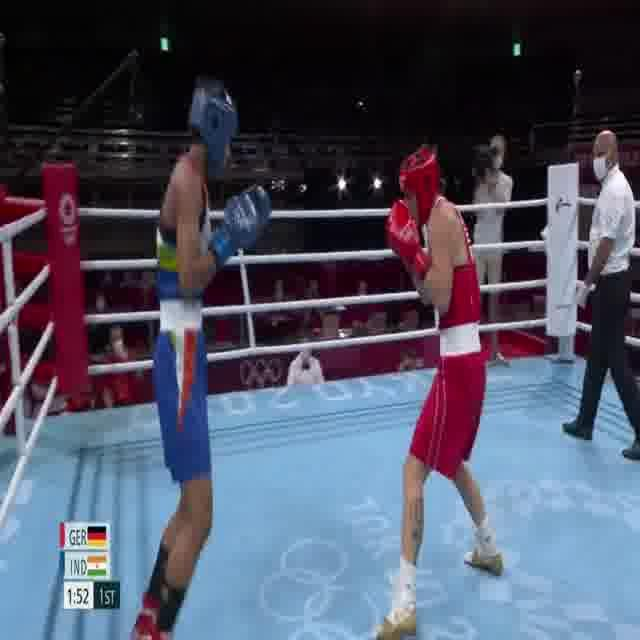blue-player: (124, 69, 274, 640)
red-player: (378, 139, 505, 640)
referee: (559, 124, 640, 470)
